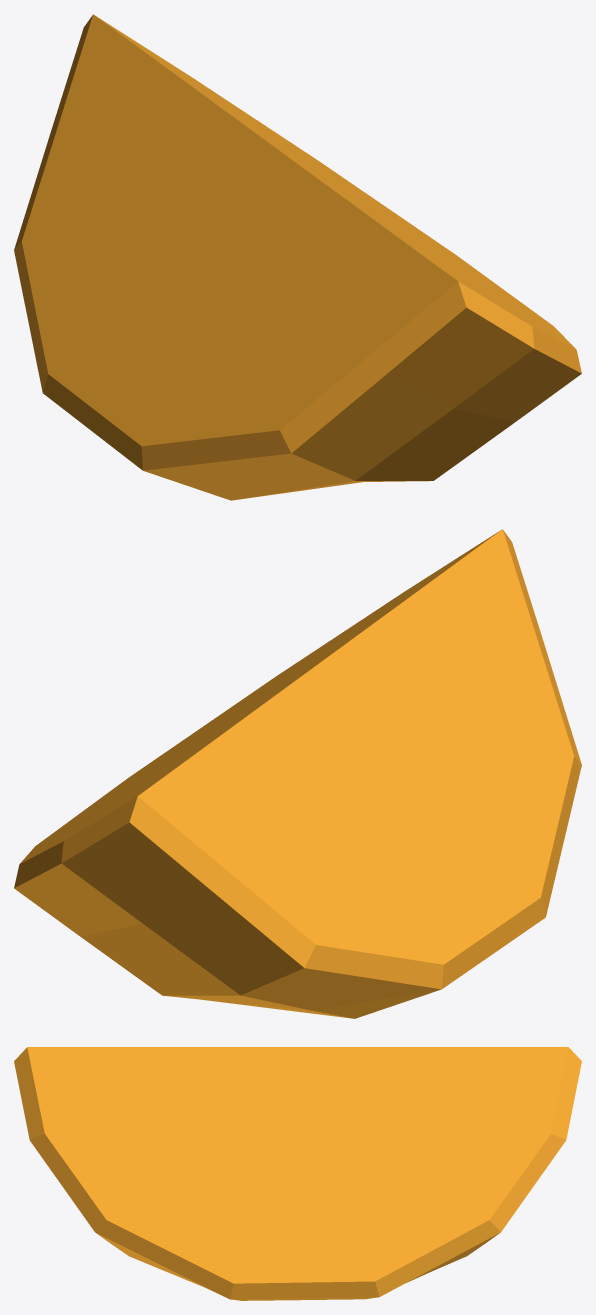
Rendered from SM_Onion_Slice_Grilled.fbx.
The picture shows the model from 3 angles, top to bottom: view 1: azimuth 30°, elevation 25°; view 2: azimuth 150°, elevation 25°; view 3: azimuth 270°, elevation 25°; orthographic projection. The views are drawn at different scales.
Visible parts, largest first — view 1: onion-slice-grilled; view 2: onion-slice-grilled; view 3: onion-slice-grilled.
Boxes of the visible parts, x1,y1,x2,y2 form: onion-slice-grilled: (14, 14, 581, 500); onion-slice-grilled: (14, 529, 581, 1018); onion-slice-grilled: (14, 1047, 581, 1300).
Bounding box in the file's own units: 0.072 × 0.0527 × 0.115.
